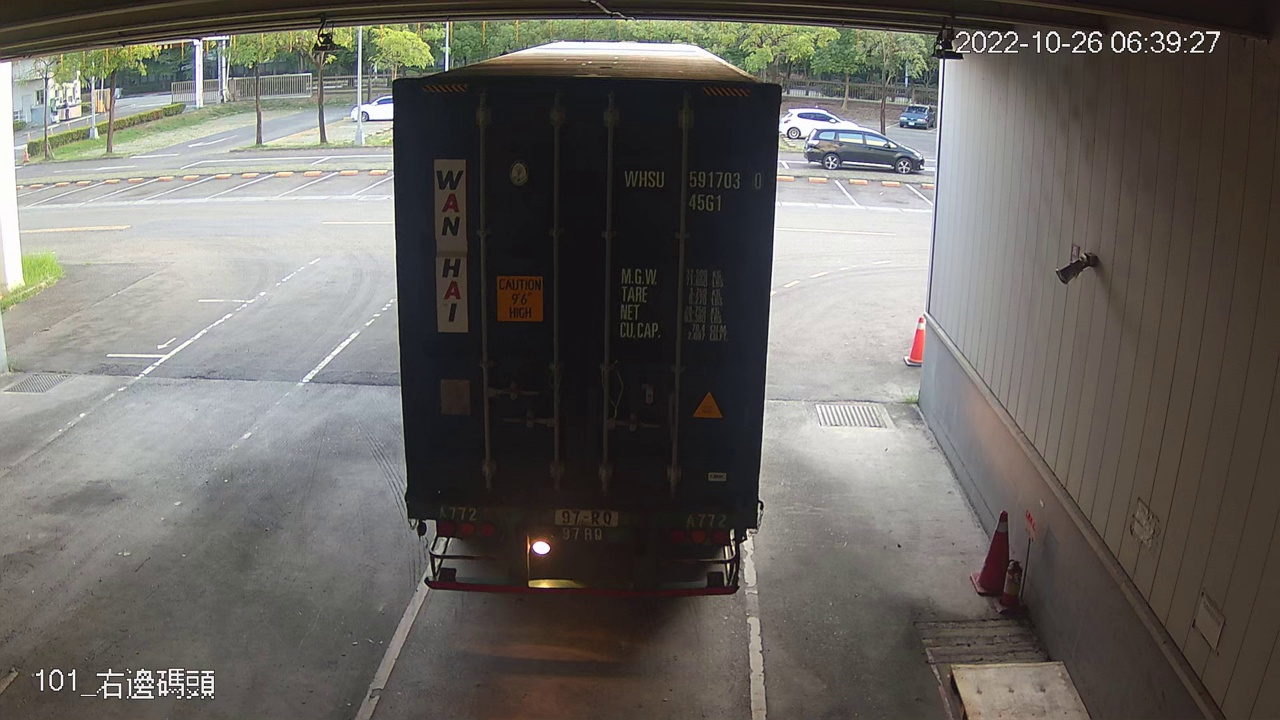container: (618, 161, 768, 216)
